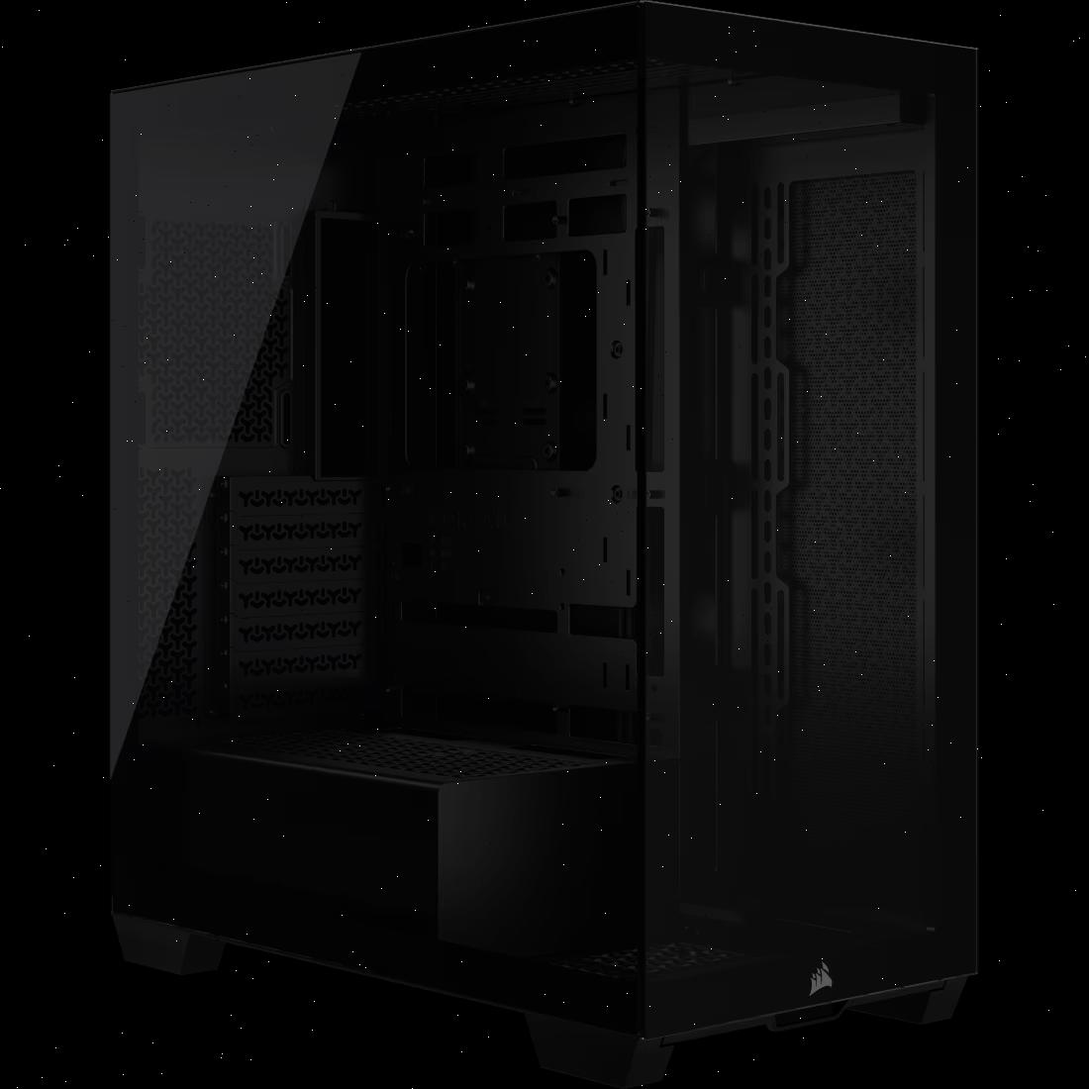pc: (18, 0, 1018, 1089)
